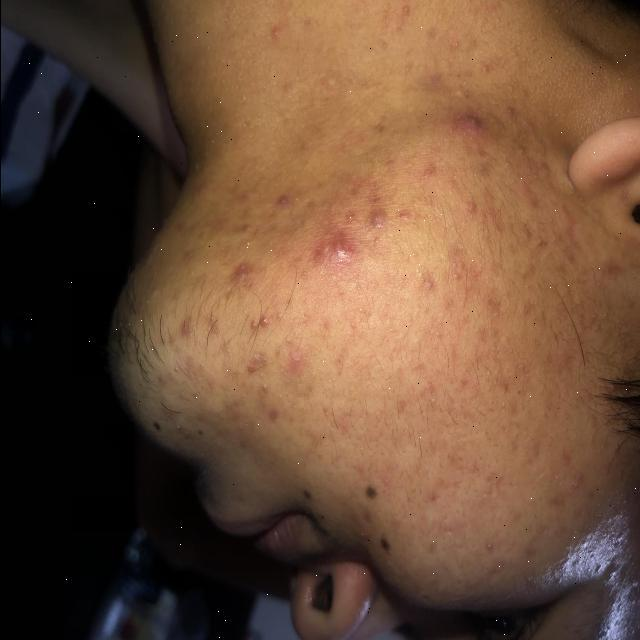Acne: (218, 108, 577, 416)
